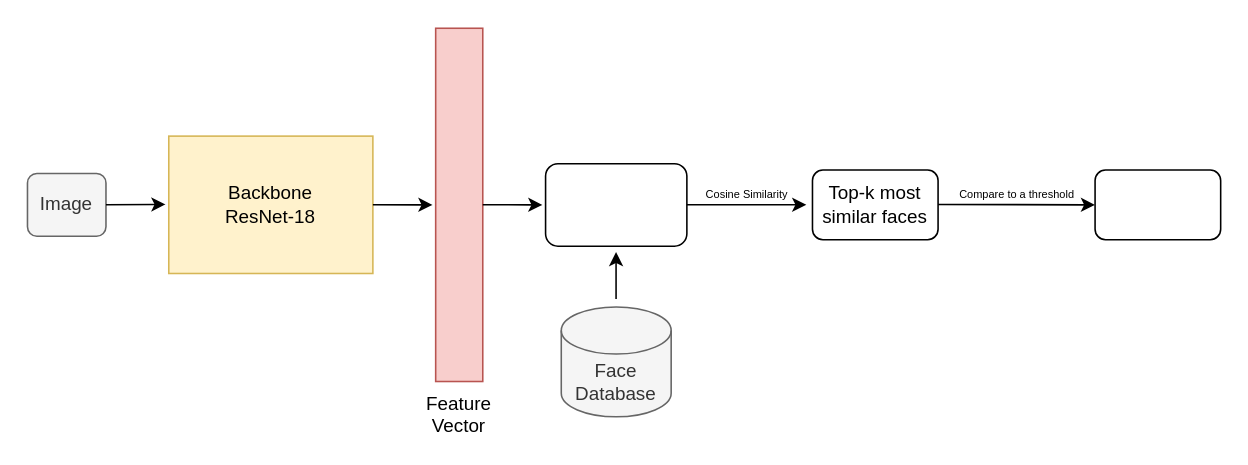
This 1248x465 diagram has some shape labels left out. The centre of each missing label's shape, as x and y in pixels:
Face ID: point (1157, 204)
Feature Matching: point (615, 204)
